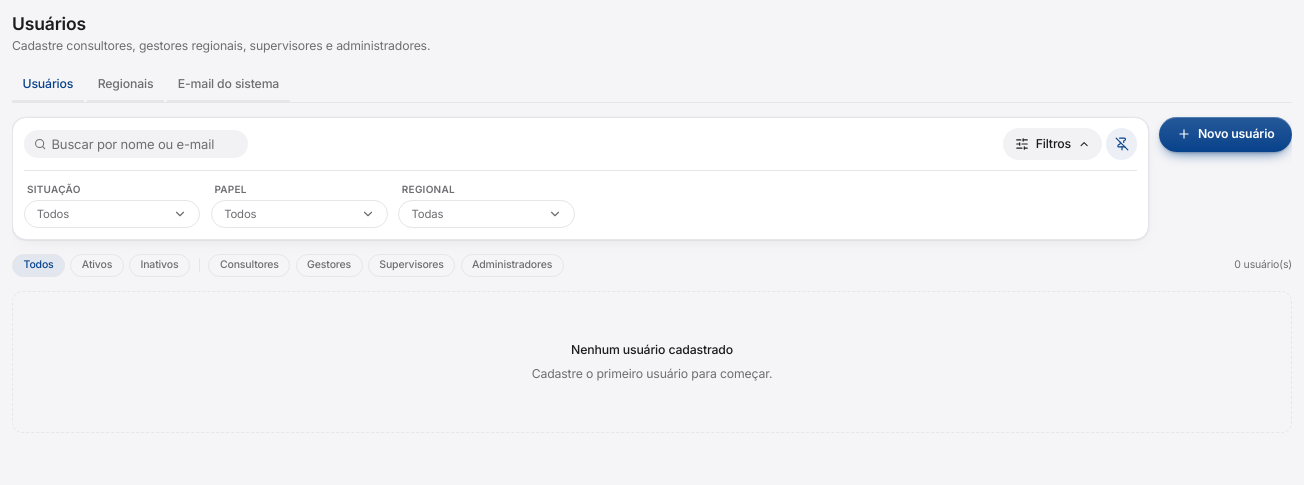
it: Usuários › sem resultado com filtro mostra 'Limpar filtros'; sem nenhum usuário, convida a cadastrar
expect the text "Nenhum usuário cadastrado" is shown: met, box [571,340,733,358]
What coordinates should you click on to do the following:
click the button "Ativos"
I would click on:
 (97, 265)
Its box is [70,254,124,276].
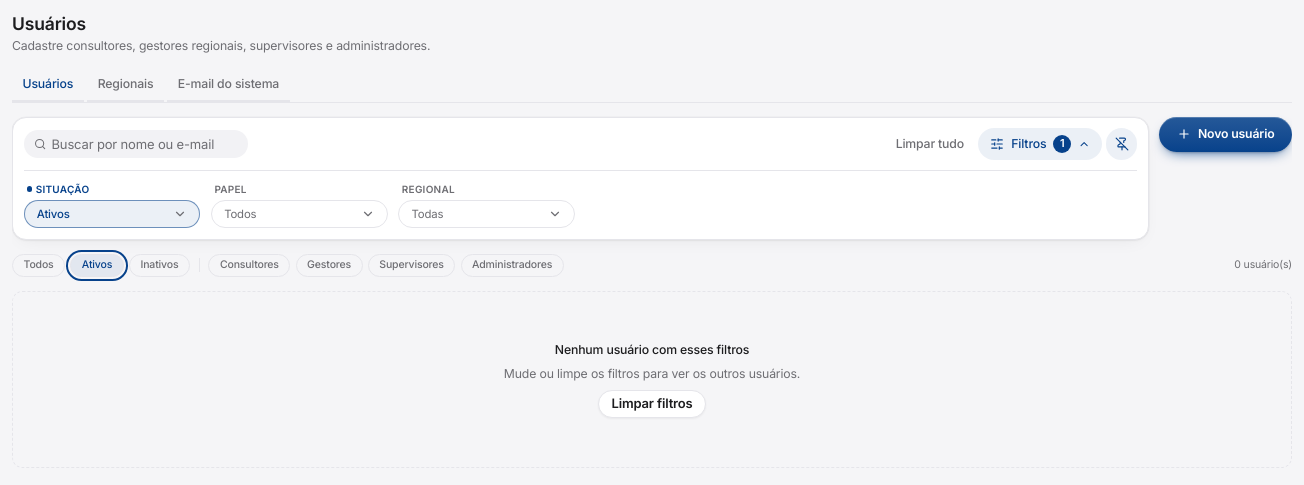
expect the text "Nenhum usuário com esses filtros" is shown: met, box [555,340,749,358]
What coordinates should you click on to do the following:
click the button "Limpar filtros"
I would click on:
 (652, 404)
Its box is [598,390,706,418].
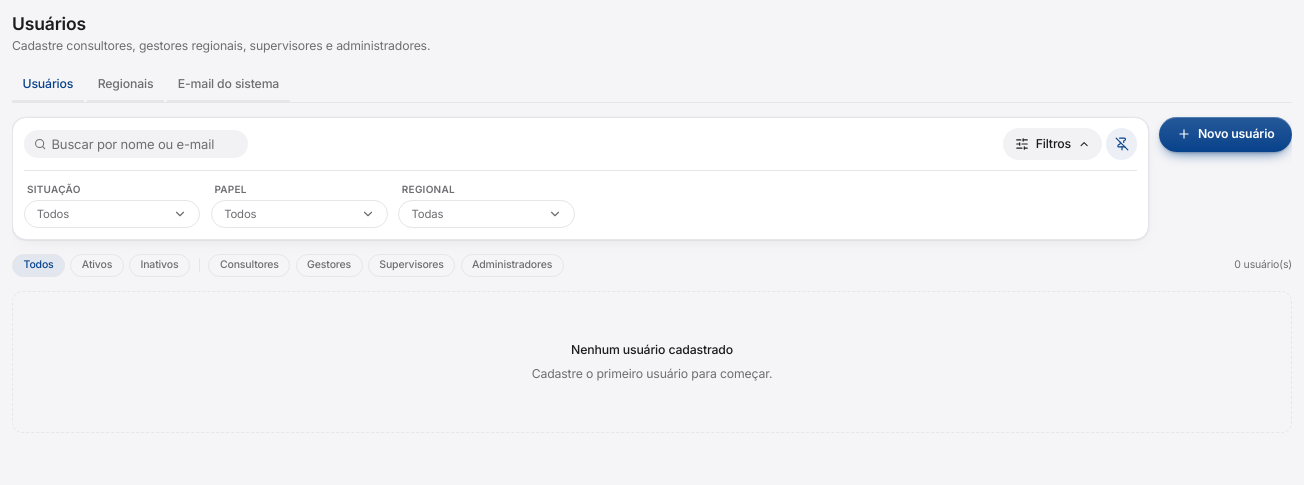
expect the text "Nenhum usuário cadastrado" is shown: met, box [571,340,733,358]
